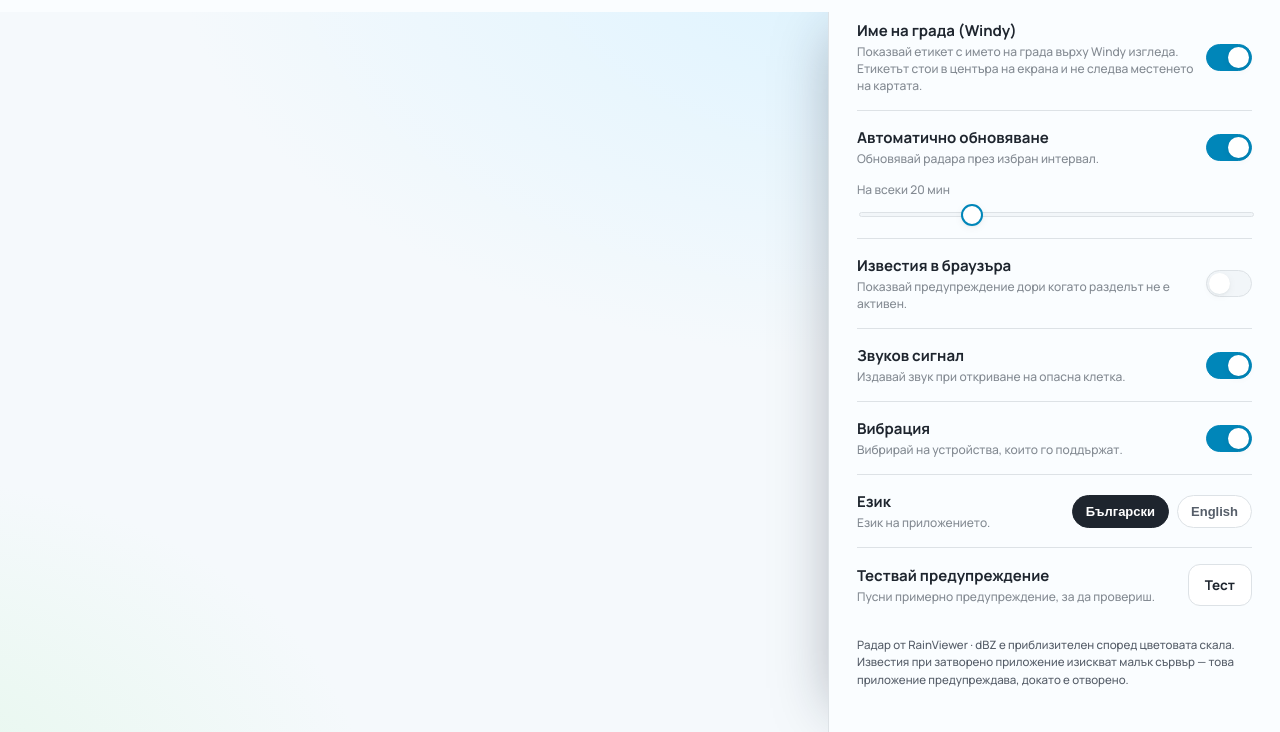
Test: SettingsSheet – language selection › switching to English re-renders the UI in English
(page scrolled)
Click the button "English".
click(1214, 511)  # box left=1177, top=494, right=1252, bottom=528
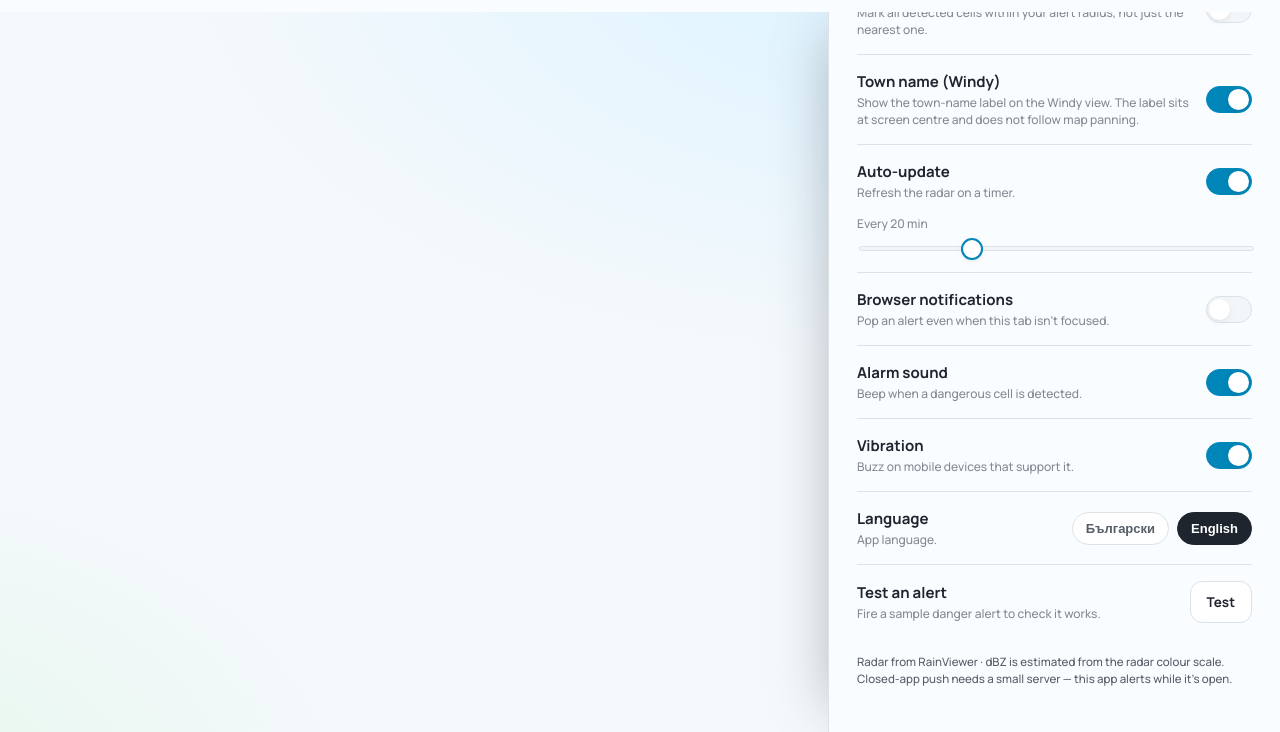
expect the text "Auto-update" is shown: met, box left=857, top=161, right=950, bottom=182
